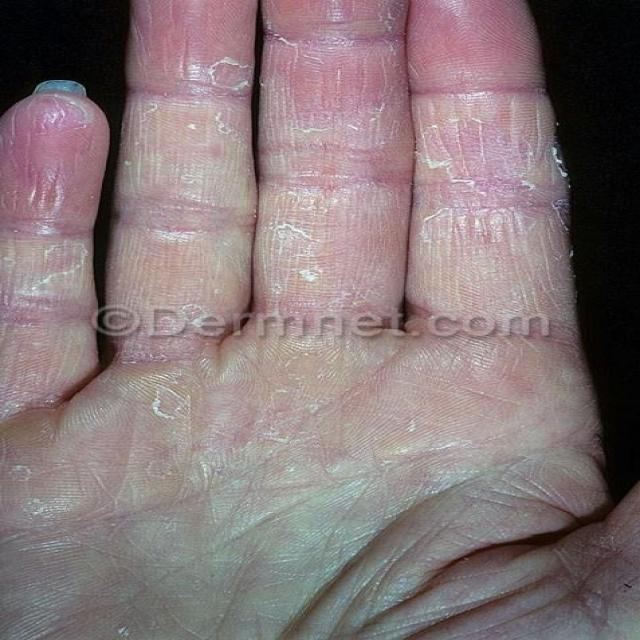Eczema: (0, 28, 566, 520)
